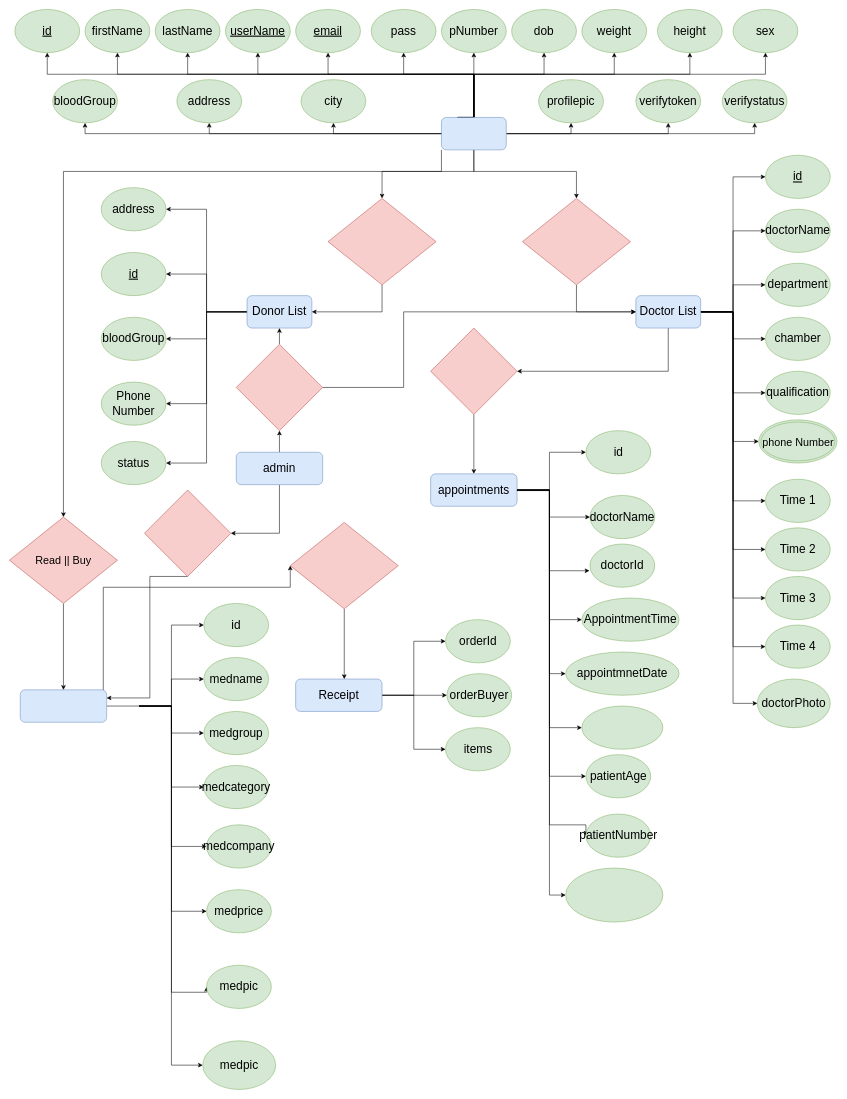
This 847x1099 diagram has some shape labels left out. Here are the shapes that lost their labels. From the top down, the centre of each, then its label:
At (x=473, y=133): "Users".
At (x=382, y=241): "Read || Register".
At (x=576, y=241): "Read || Appoint".
At (x=279, y=387): "CRUD".
At (x=473, y=371): "Appointment Receipt".
At (x=187, y=533): "Add Medicine".
At (x=344, y=565): "Receipt Create".
At (x=63, y=705): "MedCorner".
At (x=622, y=727): "patientName".
At (x=614, y=895): "patientUsername".
